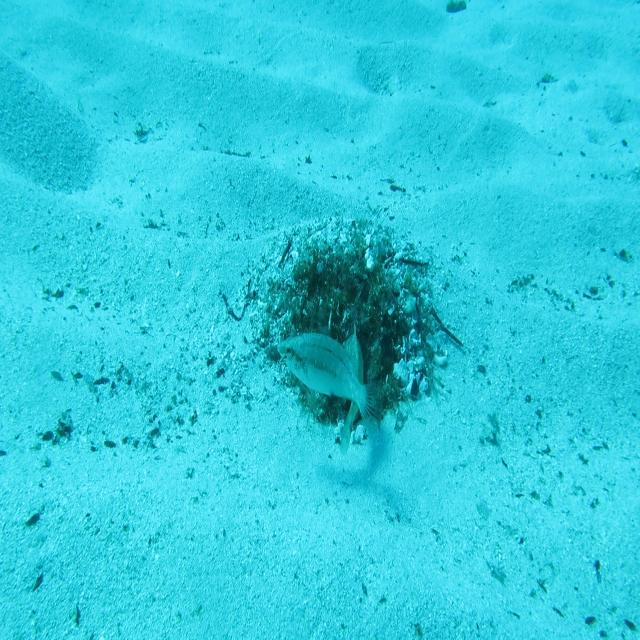FAN: (336, 317, 366, 460)
core_nest: (319, 268, 360, 303)
female: (273, 325, 385, 443)
nest: (241, 202, 455, 456)
vegetation: (445, 0, 469, 13)
